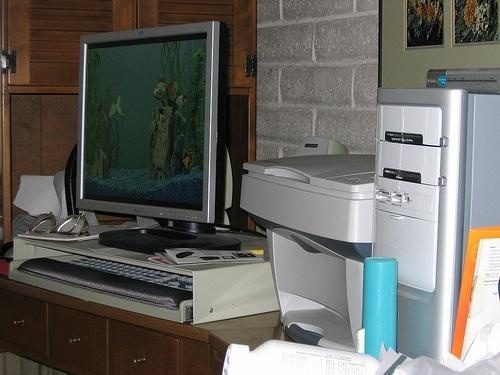tvmonitor: (77, 18, 243, 255)
